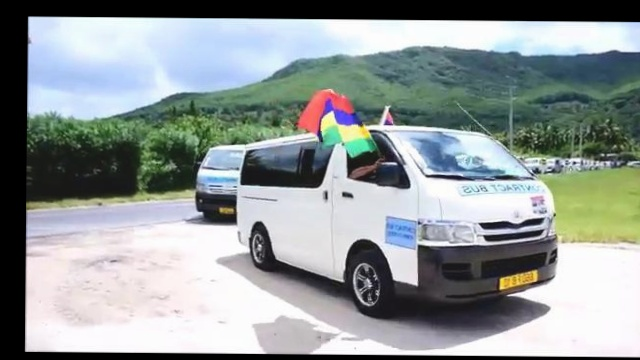van: (230, 122, 562, 319)
